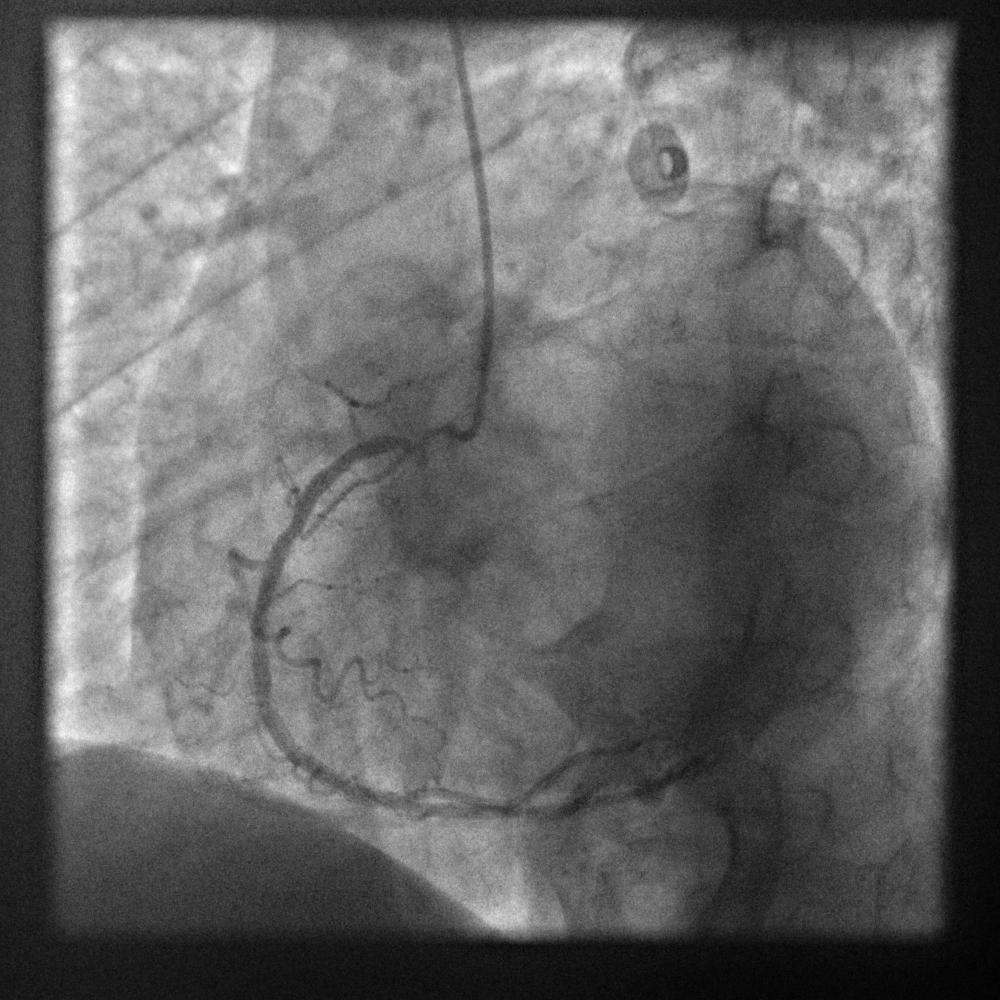Stenosis: (274, 496, 311, 548)
